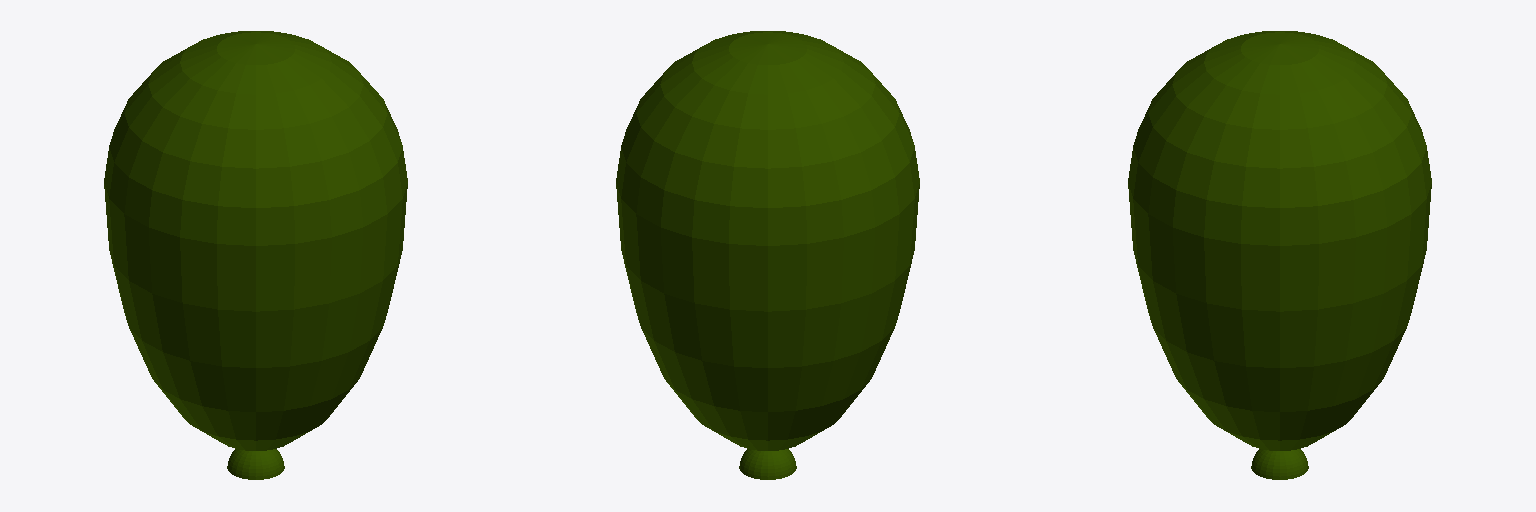
File: balloon.obj
3 renders of one model, left to right at view 1: azimuth 30°, elevation 25°; view 2: azimuth 150°, elevation 25°; view 3: azimuth 270°, elevation 25°, orthographic.
Visible parts, largest first — view 1: Mesh1 convexhull Model, Mesh2 convexhull Model; view 2: Mesh1 convexhull Model, Mesh2 convexhull Model; view 3: Mesh1 convexhull Model, Mesh2 convexhull Model.
Part boxes in pixels (x1,y1,x2,y2): Mesh1 convexhull Model: (104,31,407,450); Mesh2 convexhull Model: (227,449,284,479); Mesh1 convexhull Model: (616,31,919,450); Mesh2 convexhull Model: (739,449,796,479); Mesh1 convexhull Model: (1128,31,1431,450); Mesh2 convexhull Model: (1251,449,1308,479).
Size of the model in its own units: 56.09 by 86.24 by 56.09.